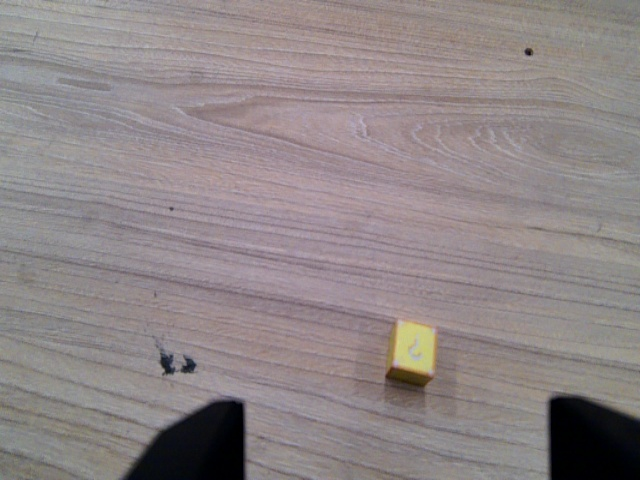lucky: (384, 315, 439, 390)
